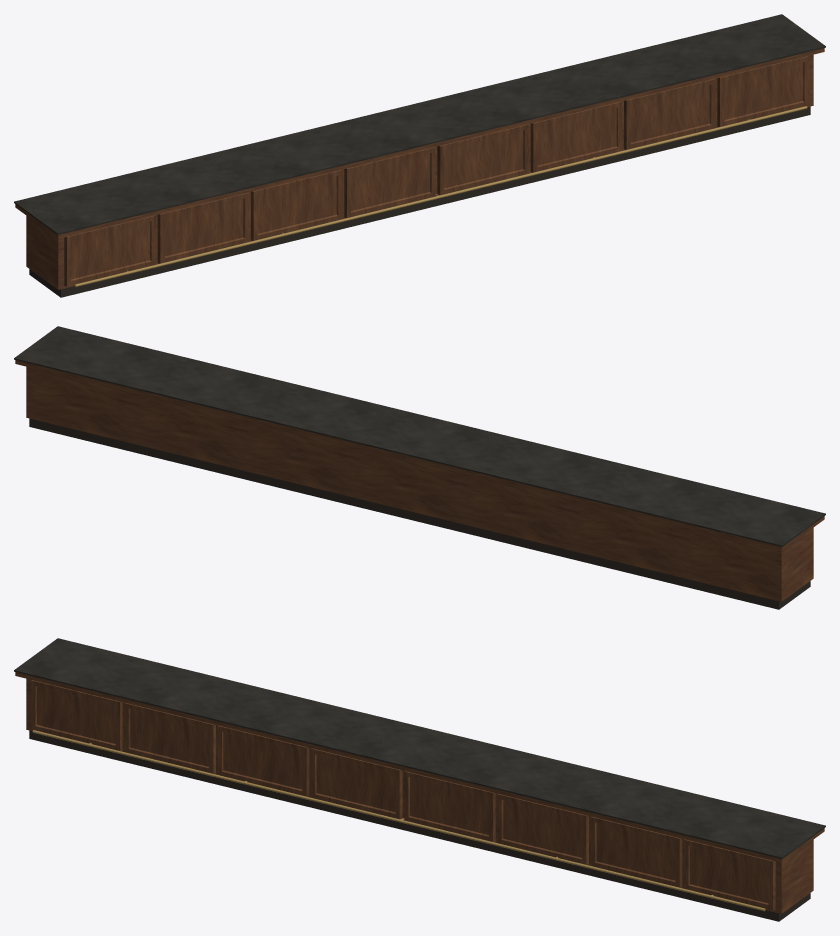
File: minato-walnut-counter.glb
3 views of the same model, one above another, from view 1: azimuth 30°, elevation 25°; view 2: azimuth 150°, elevation 25°; view 3: azimuth 330°, elevation 25° (orthographic).
Visible parts, largest first — view 1: Counter / Wood, Counter / Slate, Counter / Dark hardware, Counter / Brass; view 2: Counter / Wood, Counter / Slate, Counter / Dark hardware; view 3: Counter / Wood, Counter / Slate, Counter / Dark hardware, Counter / Brass.
Part boxes in pixels (x1,y1,x2,y2): Counter / Wood: (15,48,824,289); Counter / Slate: (14,14,825,234); Counter / Dark hardware: (29,106,810,297); Counter / Brass: (74,106,807,287); Counter / Wood: (15,360,824,601); Counter / Slate: (14,326,825,546); Counter / Dark hardware: (29,418,810,609); Counter / Wood: (15,672,824,913); Counter / Slate: (14,638,825,858); Counter / Dark hardware: (29,730,810,921); Counter / Brass: (32,730,765,911).
Size of the model in its own units: 8.4 by 0.74 by 0.83.
Materials: 4 (2 with a texture image).
